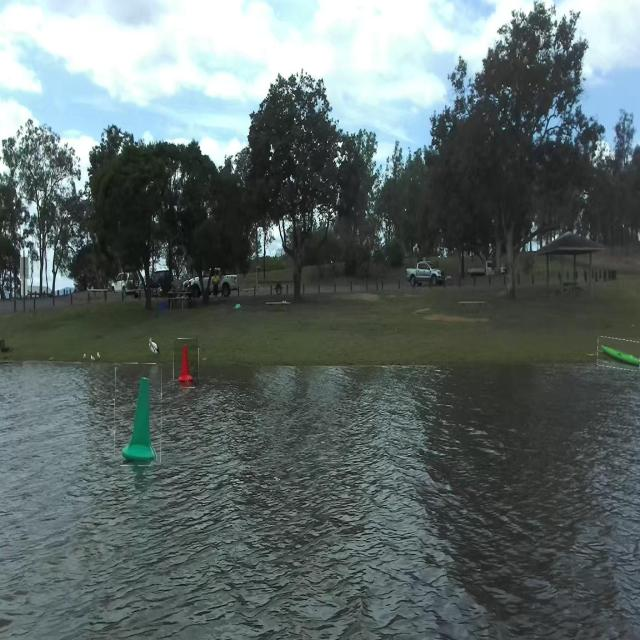Green_Buoy: (116, 361, 162, 467)
Red_Buoy: (178, 337, 197, 394)
